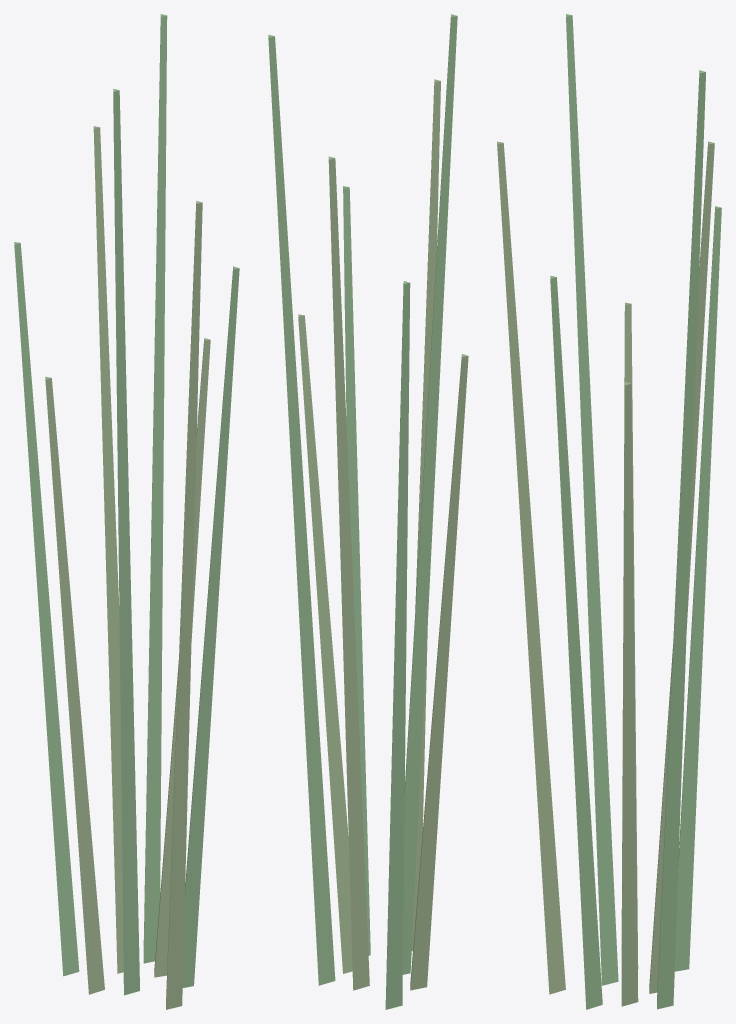
Rendered from reed_v19.glb.
3 renders of one model, left to right at view 1: azimuth 30°, elevation 25°; view 2: azimuth 150°, elevation 25°; view 3: azimuth 270°, elevation 25°, orthographic. The views are drawn at different scales.
Visible parts, largest first — view 1: lod0; view 2: lod0; view 3: lod0.
Part boxes in pixels (x1,y1,x2,y2): lod0: (14,14,239,1009); lod0: (268,14,468,1009); lod0: (497,14,721,1009).
Size of what is drawn, in the model's own units: 0.3538 by 1.89 by 0.4046.
